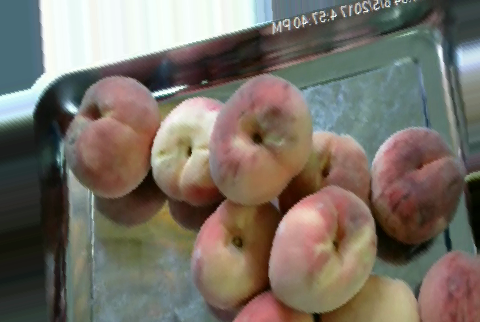Peach: (269, 187, 376, 313), (213, 76, 309, 206), (367, 125, 465, 243), (67, 74, 158, 200), (194, 195, 277, 312), (148, 95, 233, 204), (417, 247, 478, 322), (299, 282, 411, 322)
